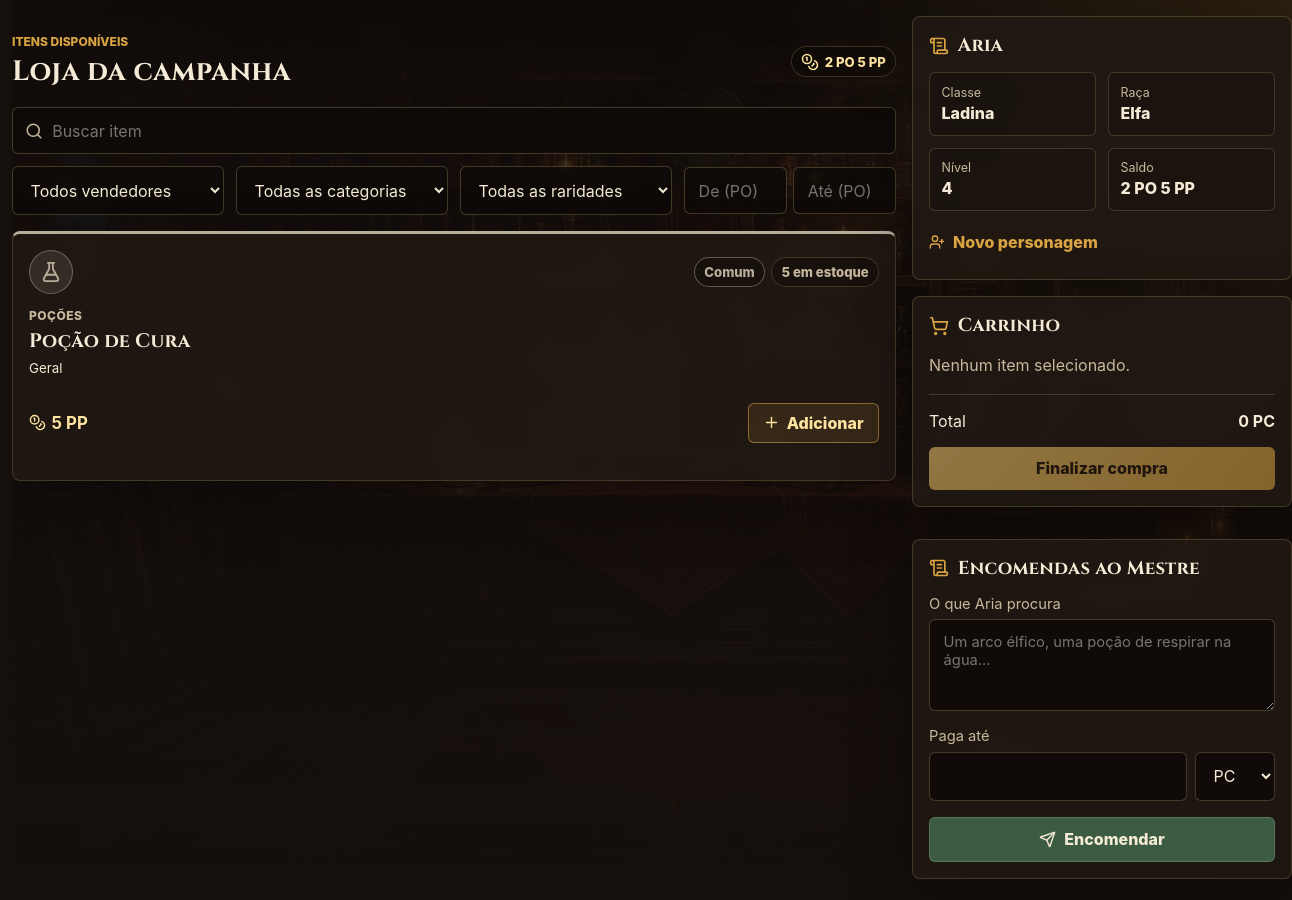
Test: ShopPage › filtra por raridade e faixa de preço em PO, mandando os valores em PC
Expected: the heading "Poção de Cura" is shown, [29,328,191,354]
Select "Raro" in the dropdown named "Filtrar por raridade" at (566, 191), box [460,166,672,215]
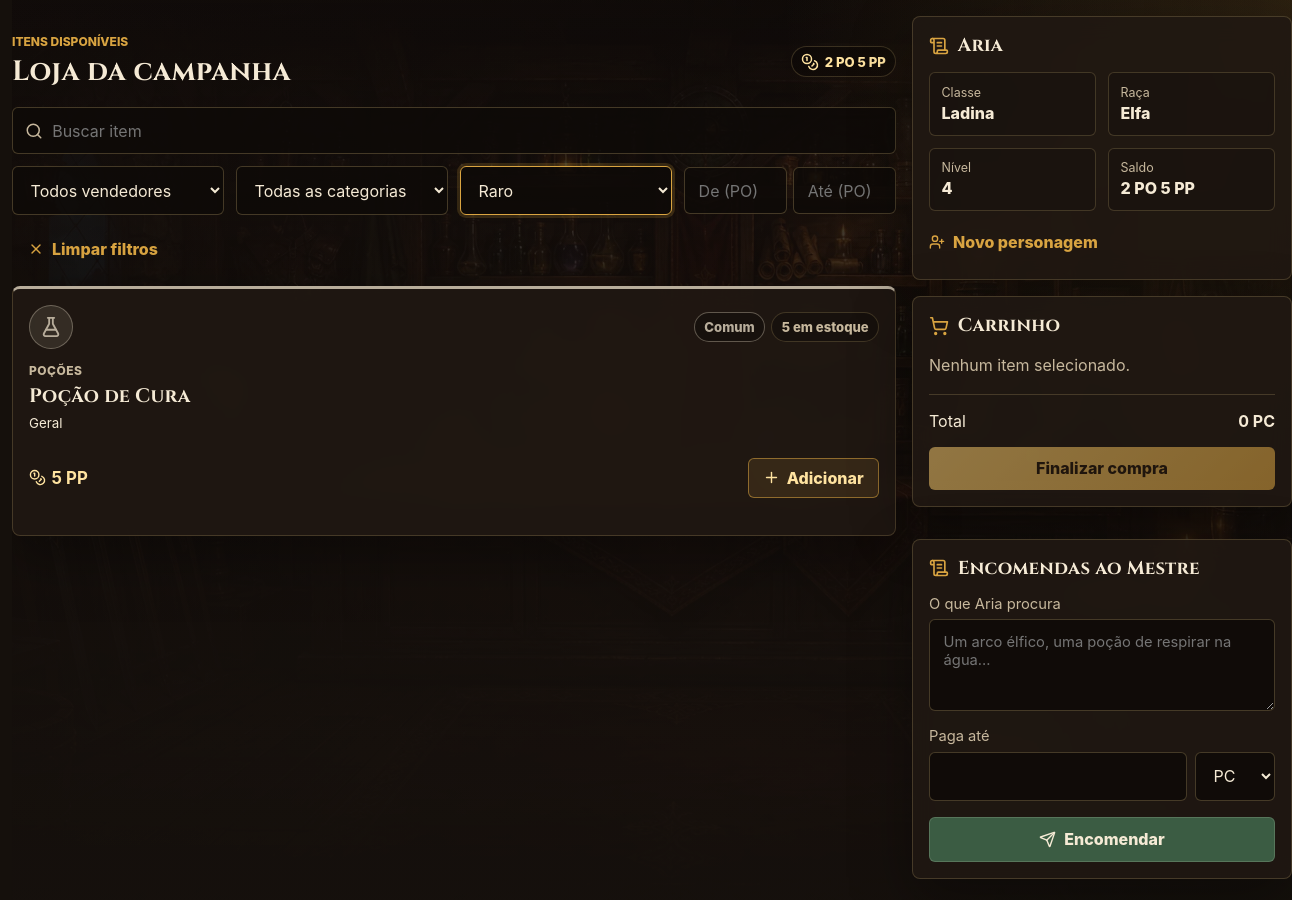
Type "2,5" into the field named "Preço mínimo em PO" at (735, 191), box [684,167,787,214]
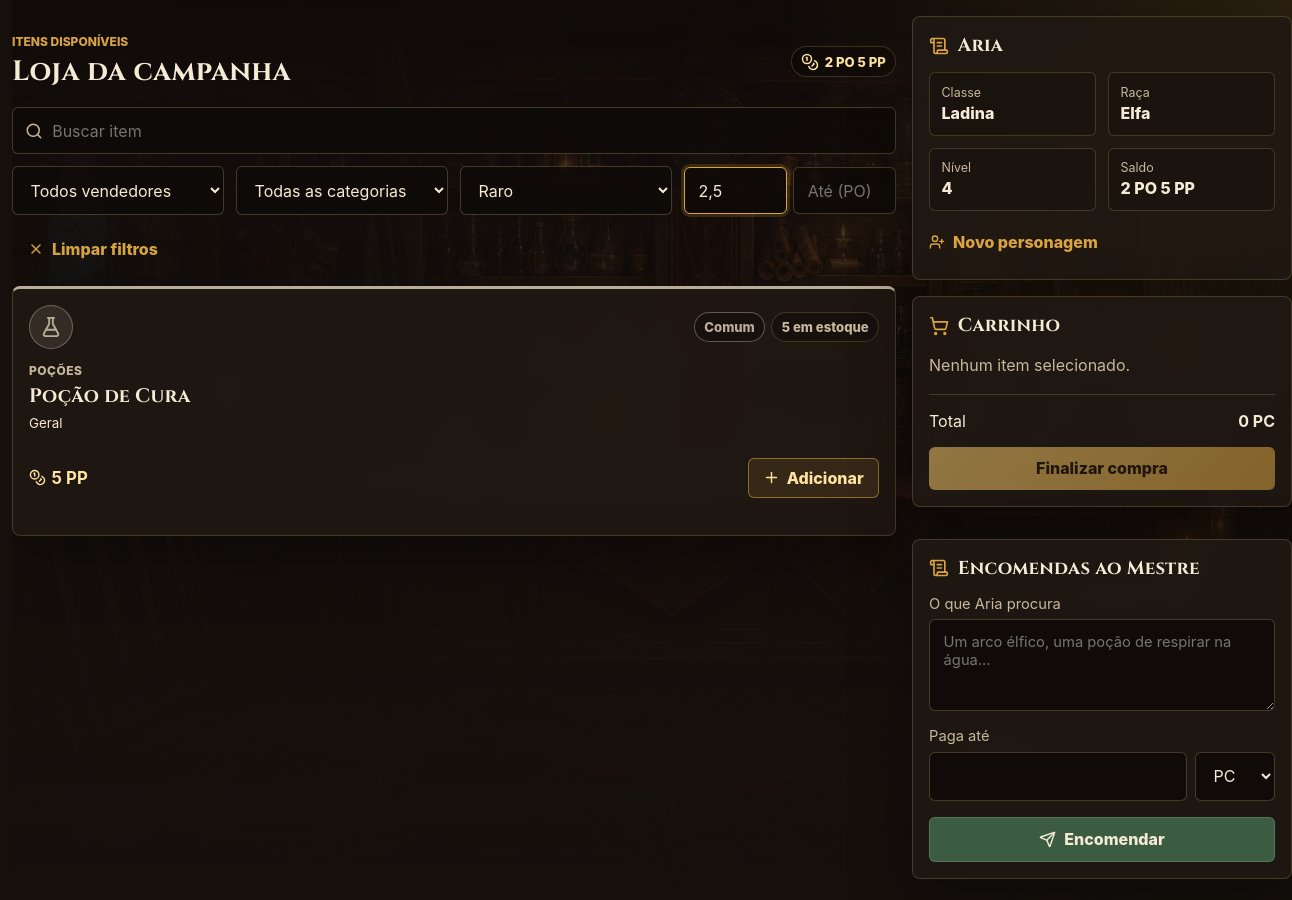
Type "100" into the field named "Preço máximo em PO" at (845, 191), box [793,167,896,214]
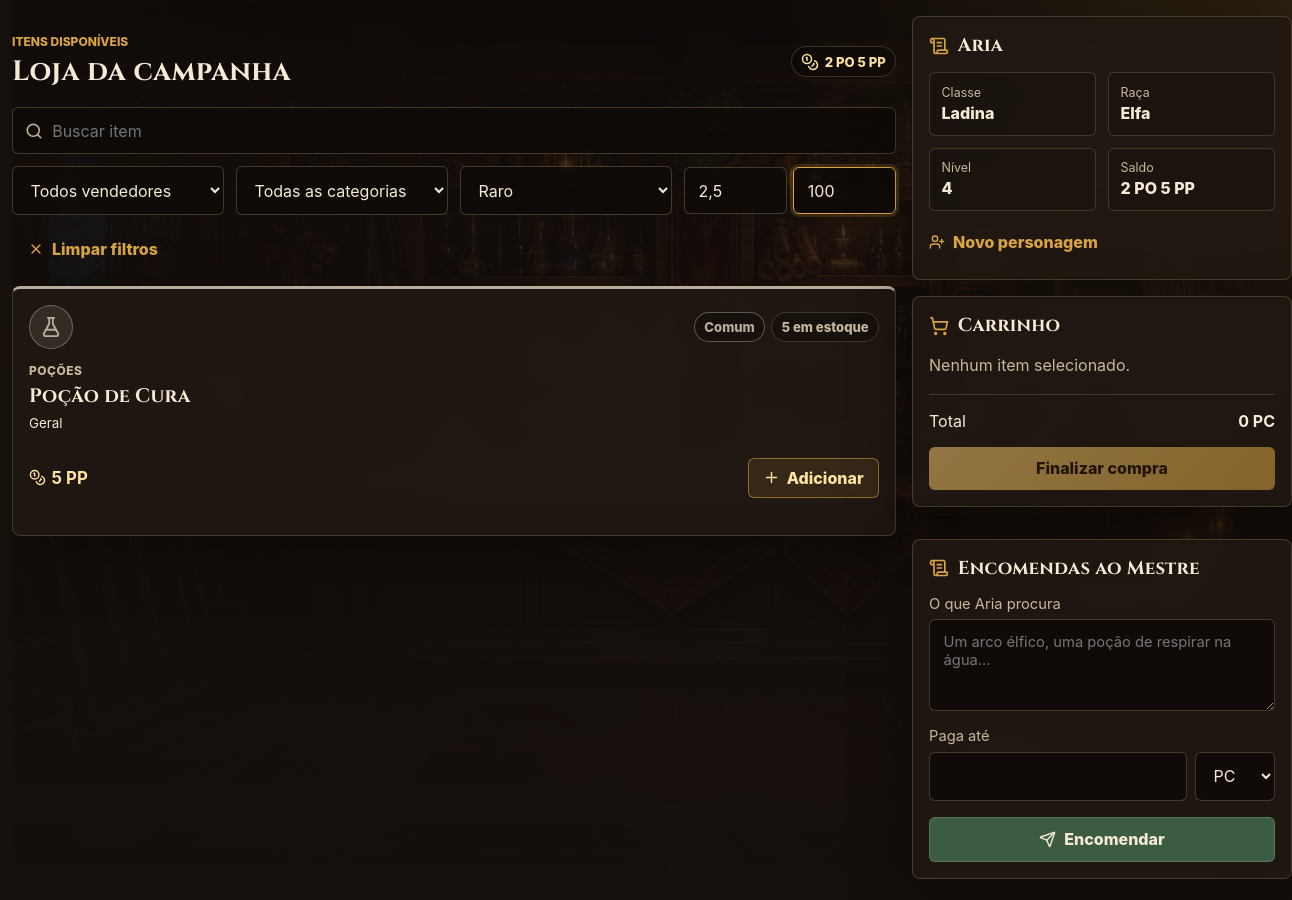
Click the button "Limpar filtros" at (93, 249), box [12,227,174,270]
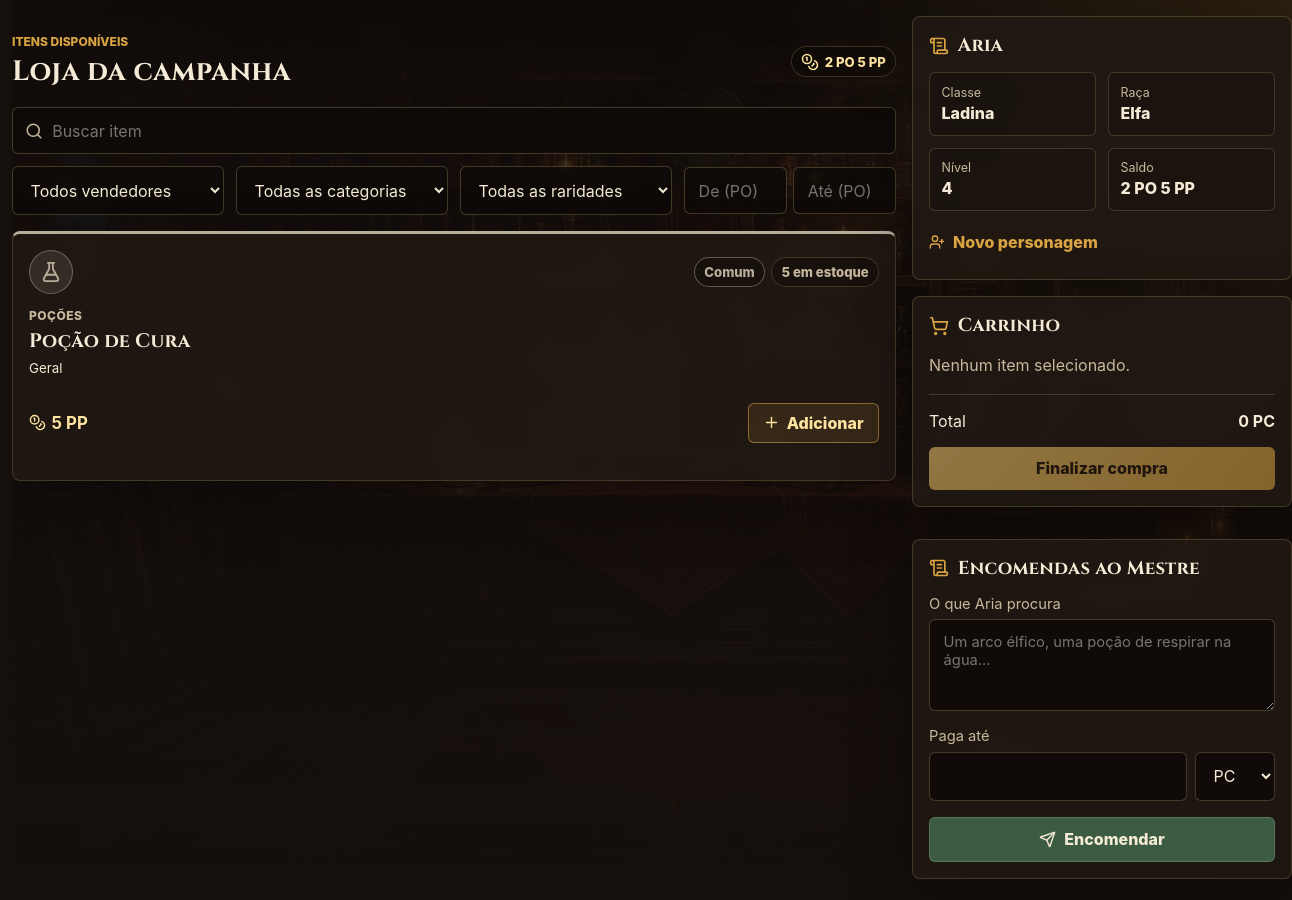
Now the button "Limpar filtros" is gone
